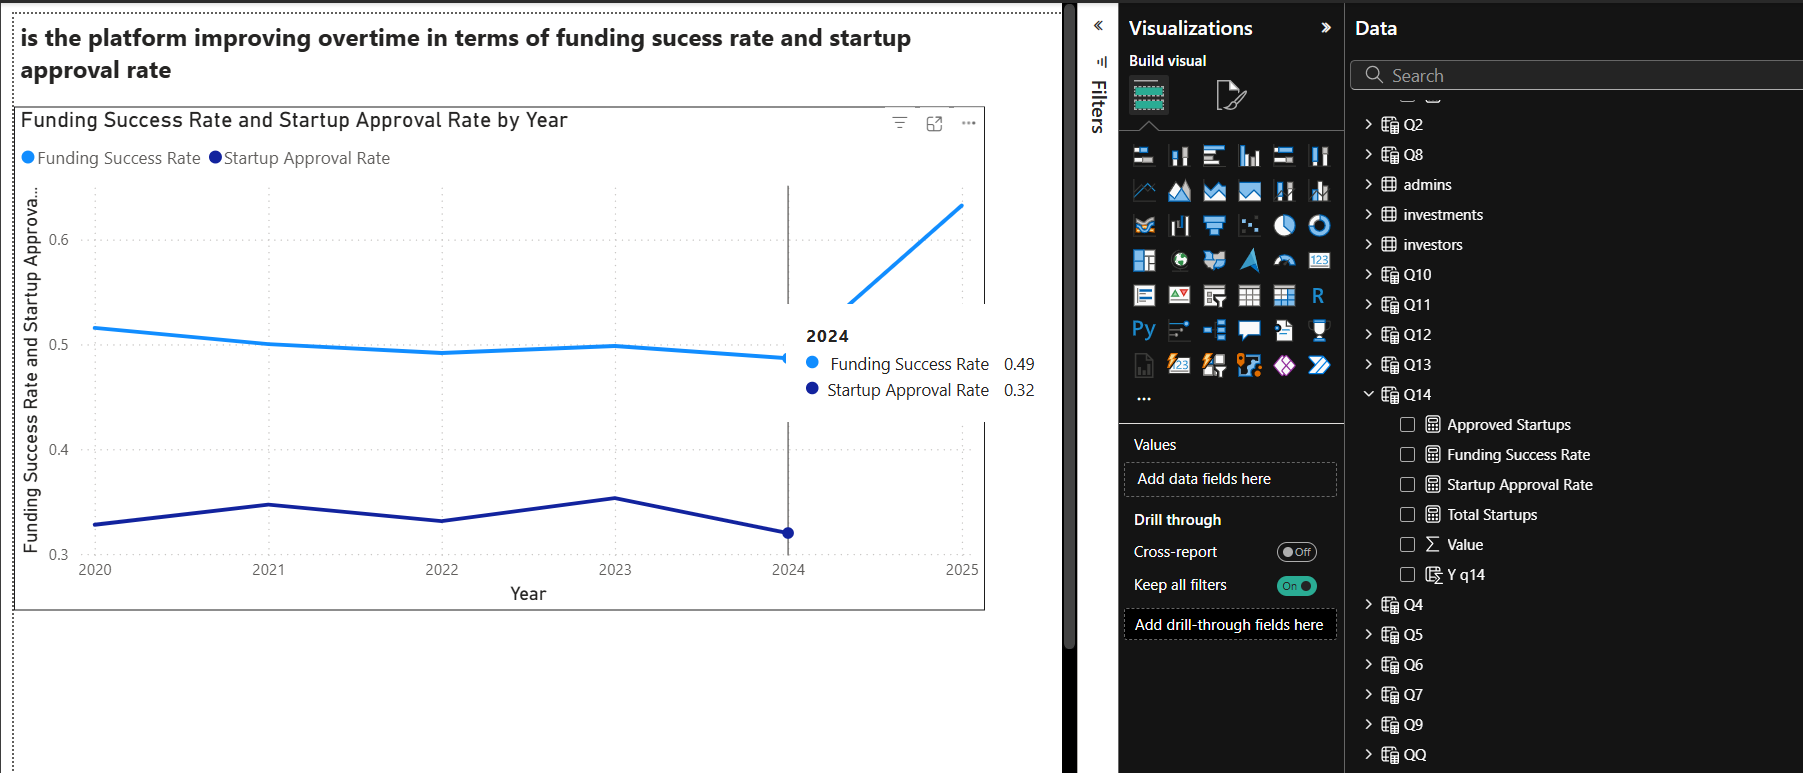

The page's visual inventory and layout, read from the dashboard file:
{"tool":"powerbi","page":{"name":"Page 8","canvas":[1280,720],"ordinal":7},"visuals":[{"type":"textbox","box":[0,0,754.4,71.8],"z":0},{"type":"lineChart","fields":{"Category":["startups.created_at.Variation.Date Hierarchy.Year"],"Y":["Q14.Funding Success Rate","Q14.Startup Approval Rate"]},"box":[0,71.8,754.4,391.3],"z":1}]}

Visuals, with their boxes on the page's 1280x720 design canvas (x1, y1, x2, y2). These are canvas units, not pixel positions in the 1803x773 screenshot, which may show the page scaled, cropped or inside an application window:
textbox: x1=0, y1=0, x2=754, y2=72
lineChart - startups.created_at.Variation.Date Hierarchy.Year x Q14.Funding Success Rate: x1=0, y1=72, x2=754, y2=463
